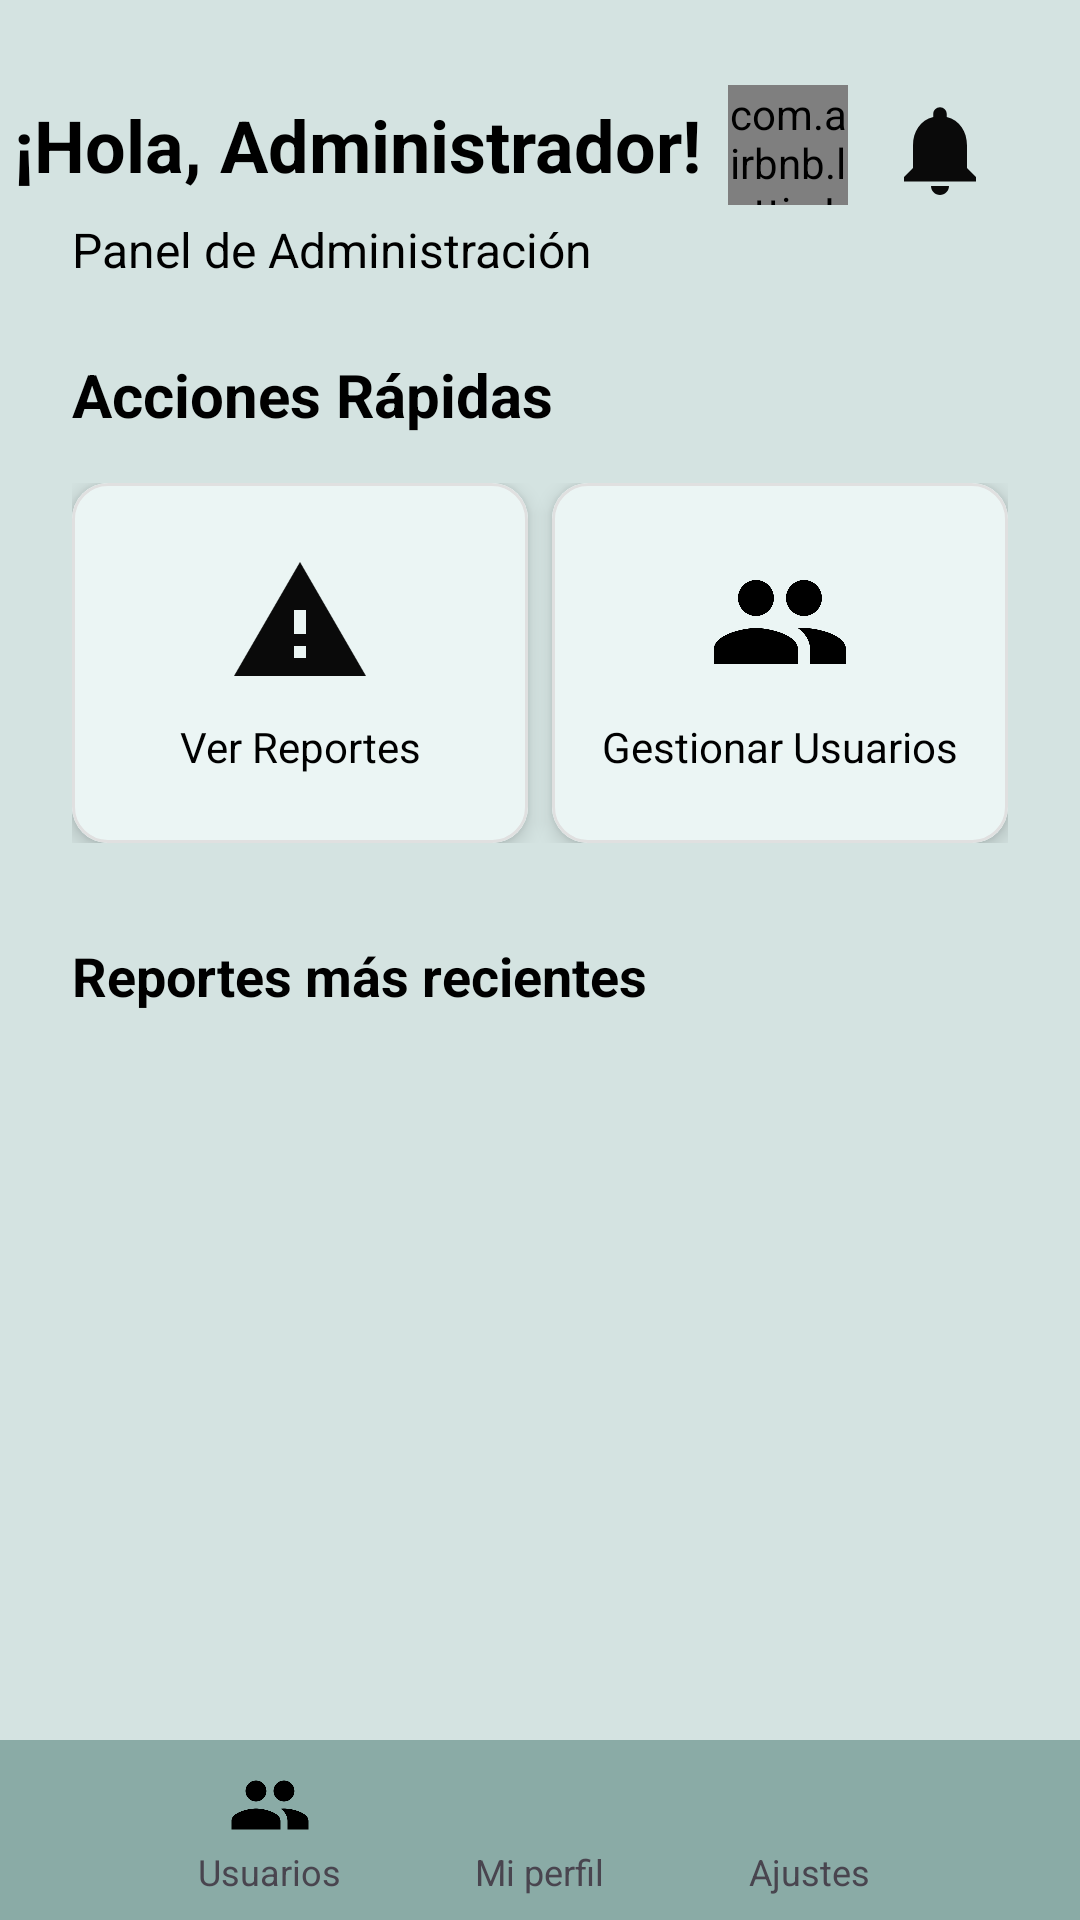

Icon click points for this 1080 x 1920 phone screenshot, format [x,y]:
Notificaciones: [940,151]
warning: [300,619]
